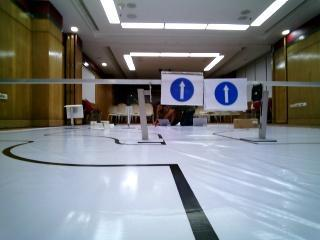straight: (162, 73, 206, 105), (212, 80, 250, 109)
